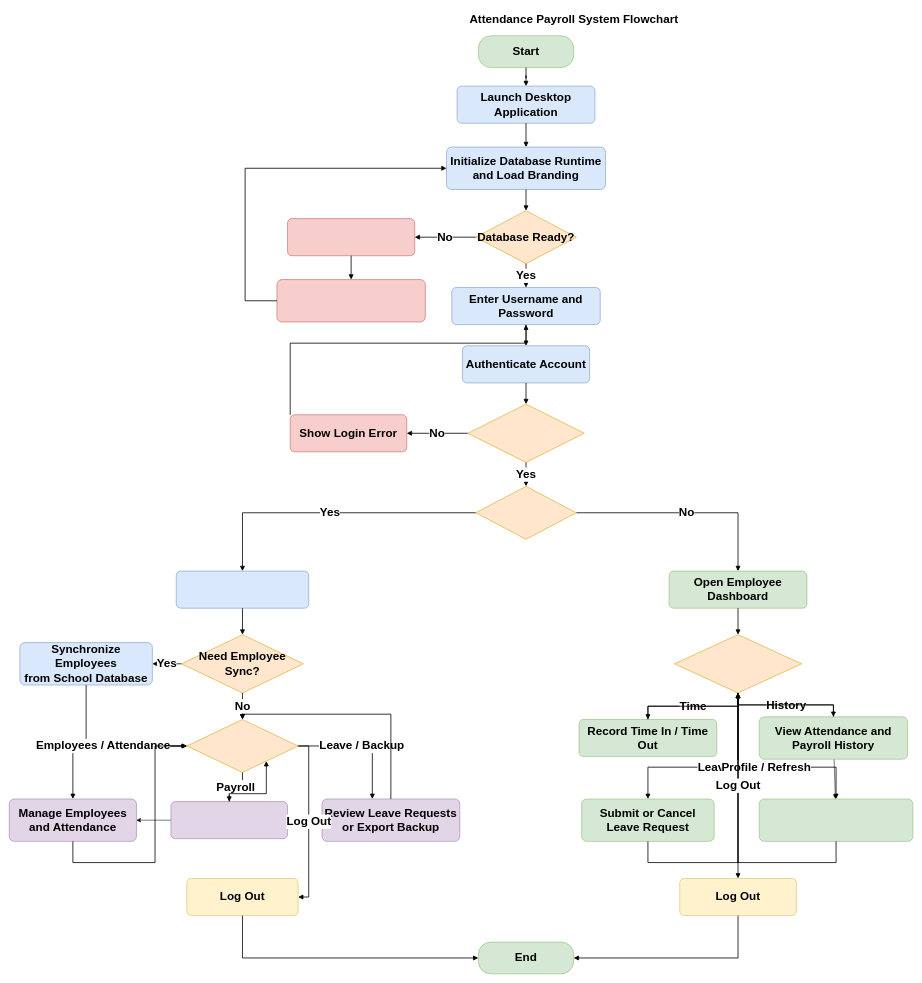
Image size: 922x983. Some labels were removed from this diagram. Each missing label, with the centre of its shape:
"Admin Account?" belongs at point (525, 512).
"Choose Admin Task" belongs at point (242, 745).
"Choose Employee Action" belongs at point (738, 663).
"Credentials Valid?" belongs at point (525, 433).
"Open Admin Dashboard" belongs at point (242, 589).
"Open Database Settings" belongs at point (351, 237).
"Process Payroll" belongs at point (229, 820).
"Test and Save Connection Settings" belongs at point (350, 300).
"Update Profile Photo or Refresh Dashboard" belongs at point (836, 819).
